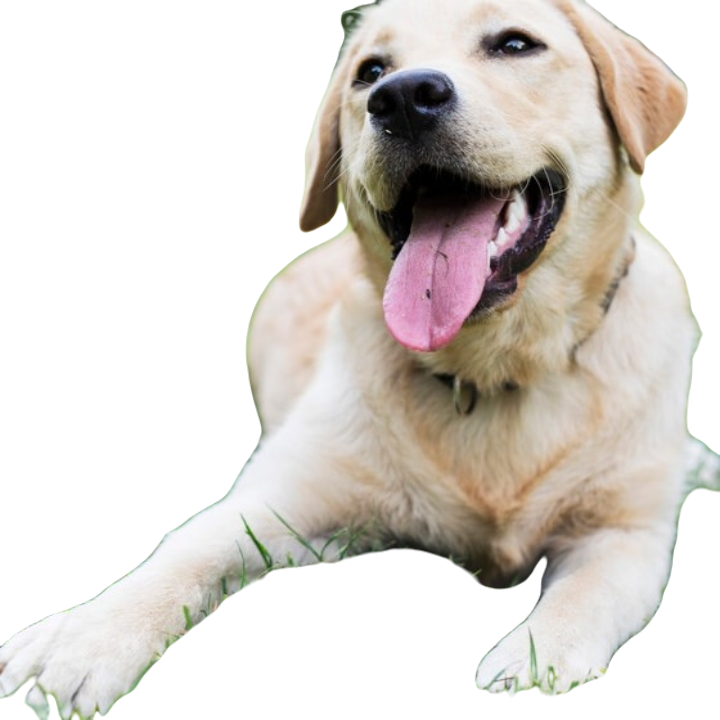Dog: (1, 0, 719, 718)
